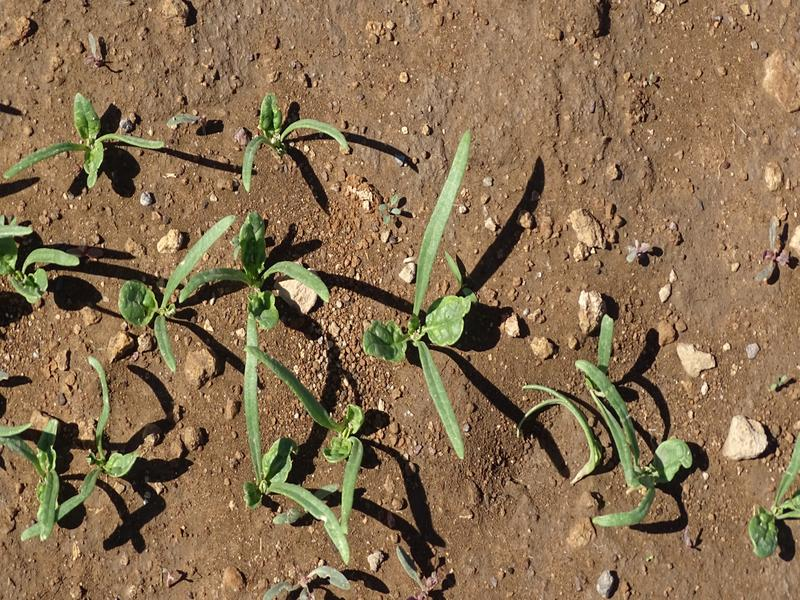Espinaca: (129, 222, 370, 568), (543, 328, 687, 530), (388, 136, 474, 461), (1, 354, 129, 540), (14, 92, 174, 189), (235, 97, 352, 179), (3, 216, 77, 314), (752, 435, 800, 554)
